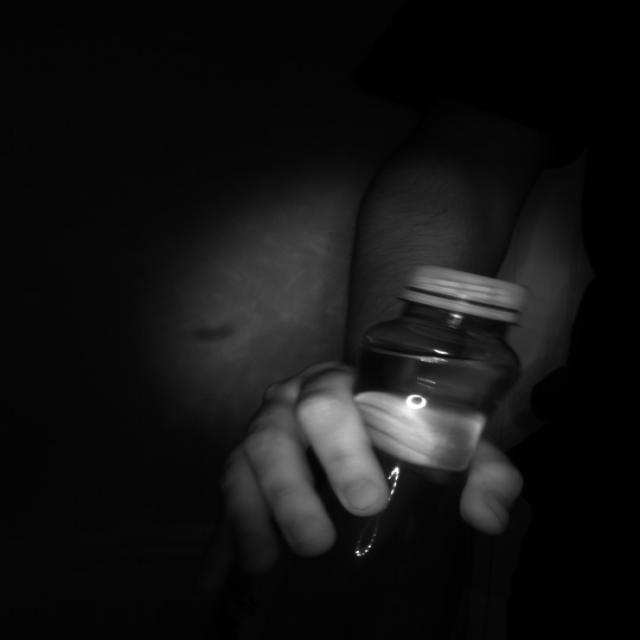Not Good: (400, 263, 526, 327)
